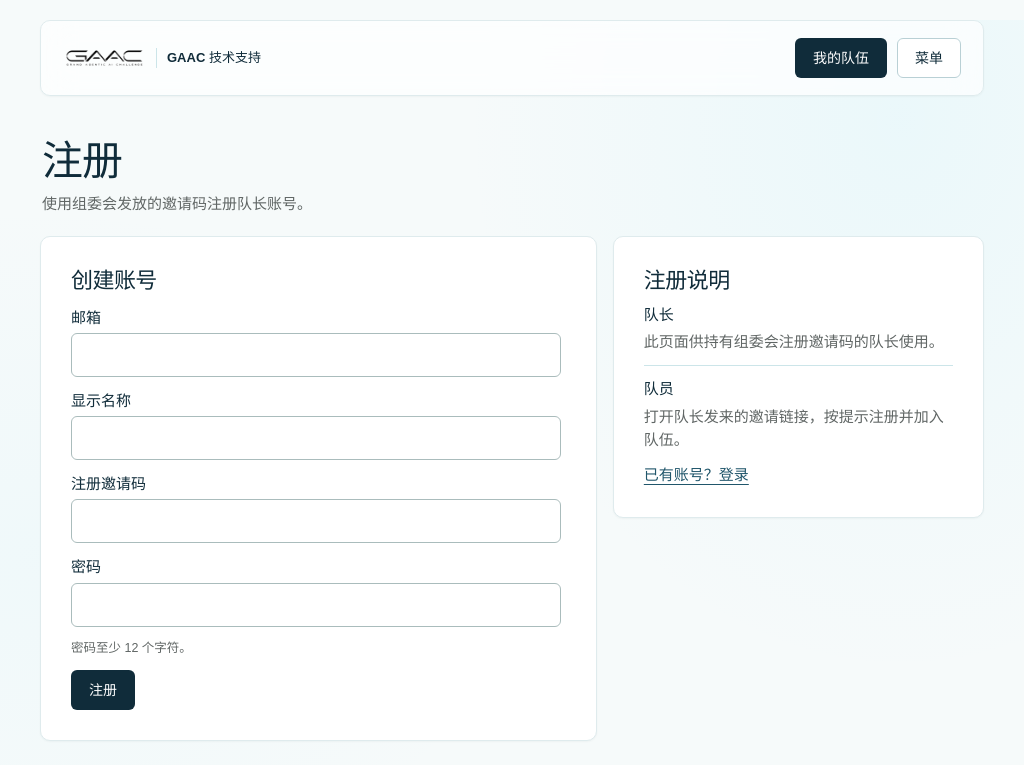
Scenario: redeems a registration code at sign-up and creates a team
Type "new-captain@example.test" into the field labelled "邮箱" at (316, 355), box [71, 333, 561, 377]
Type "方青" into the field labelled "显示名称" at (316, 438), box [71, 416, 561, 460]
Type "DEMO-CAPTAIN" into the field labelled "注册邀请码" at (316, 521), box [71, 499, 561, 543]
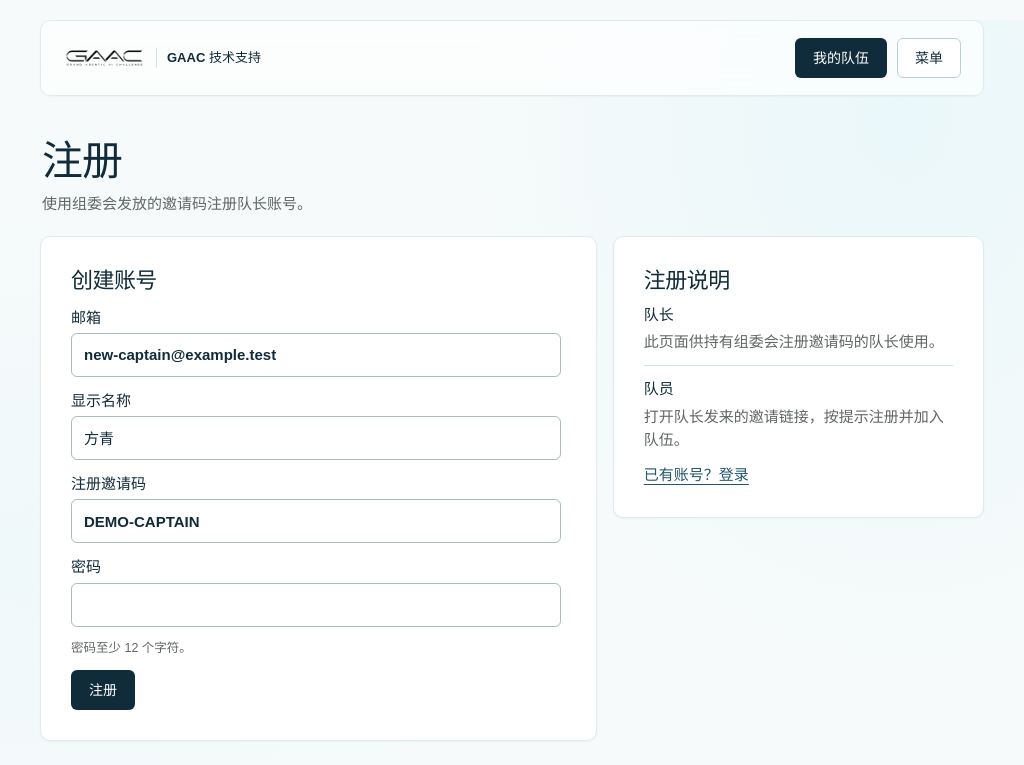
Type "demo-password-2026" into the password field labelled "密码" at (316, 605), box [71, 583, 561, 627]
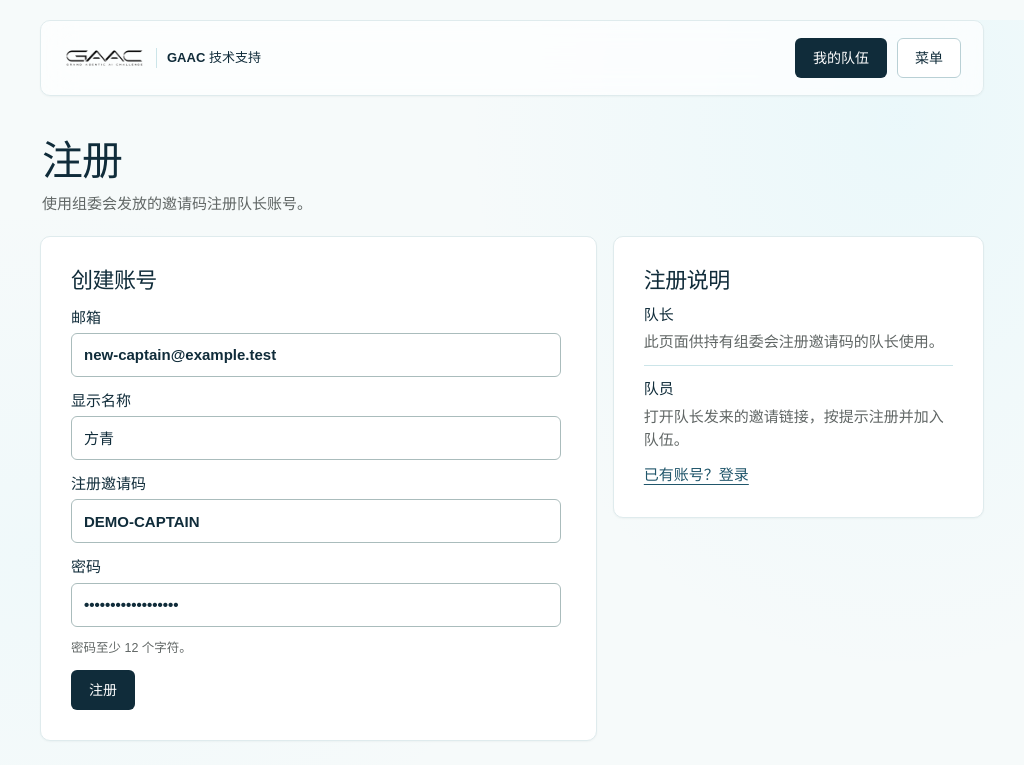
Click the button "注册" at (103, 690), box [71, 670, 135, 710]
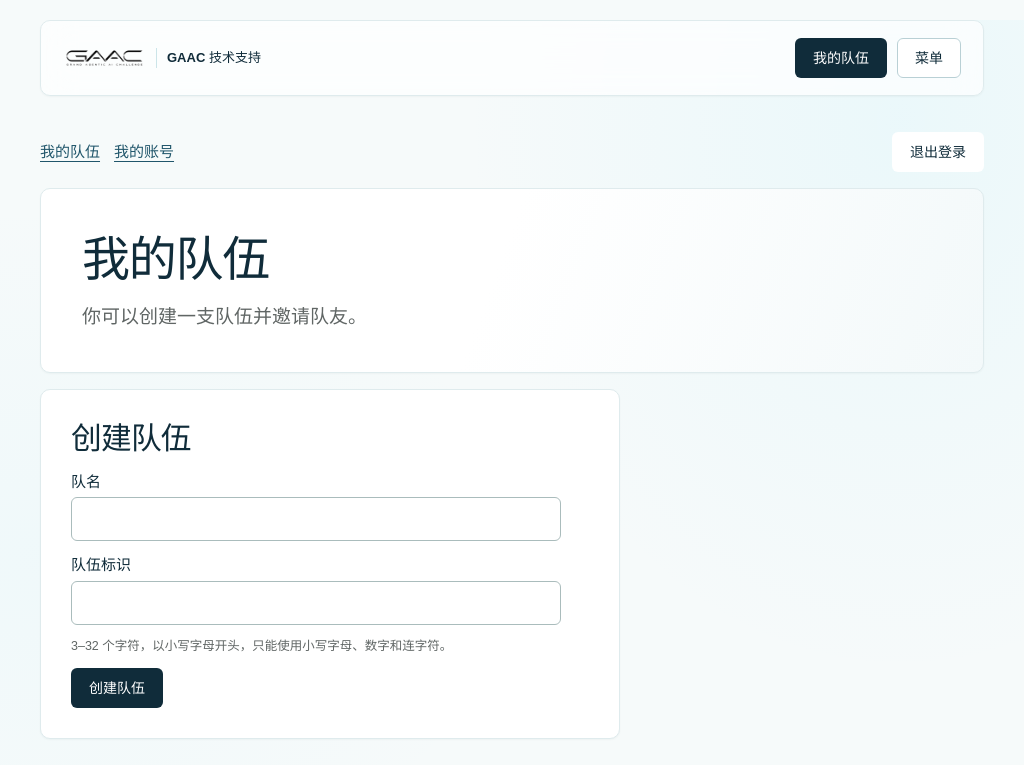
Type "青山实验室" into the field labelled "队名" at (316, 519), box [71, 497, 561, 541]
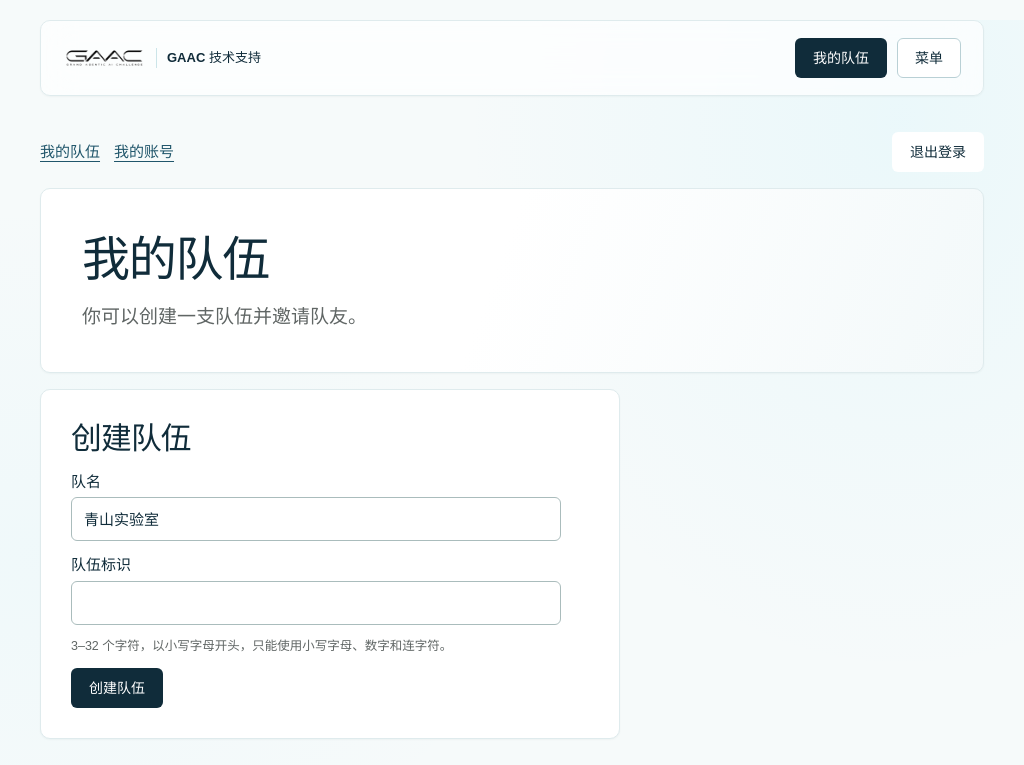
Type "green-hill" into the field labelled "队伍标识" at (316, 603), box [71, 581, 561, 625]
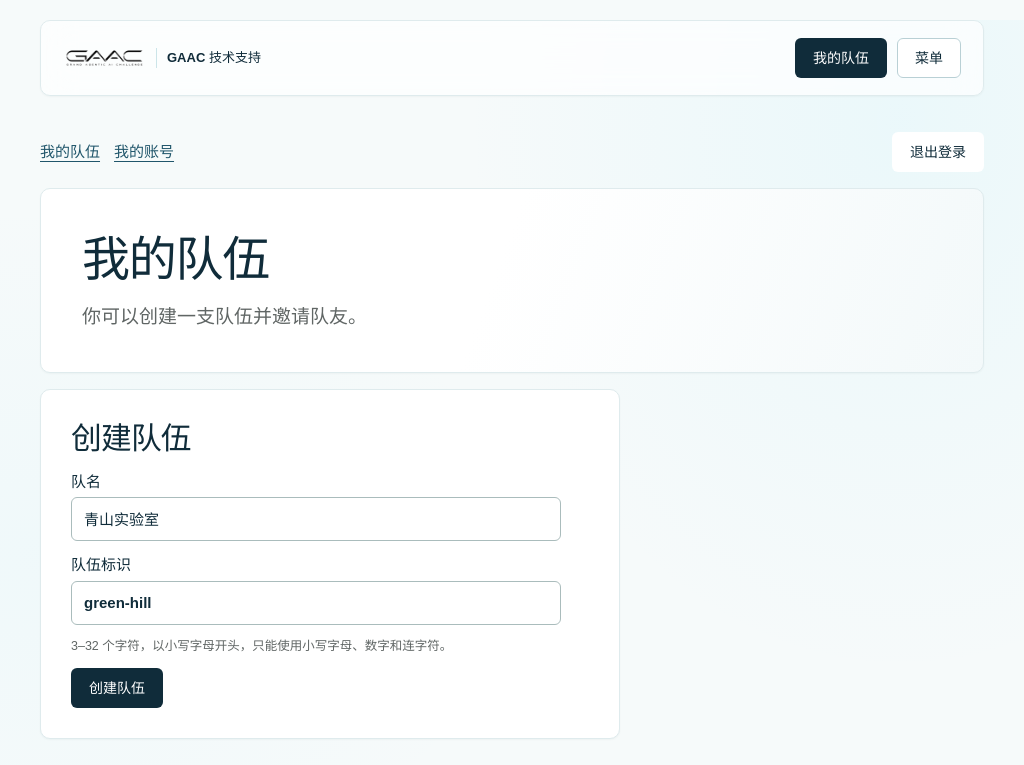
Click the button "创建队伍" at (117, 688), box [71, 668, 163, 708]
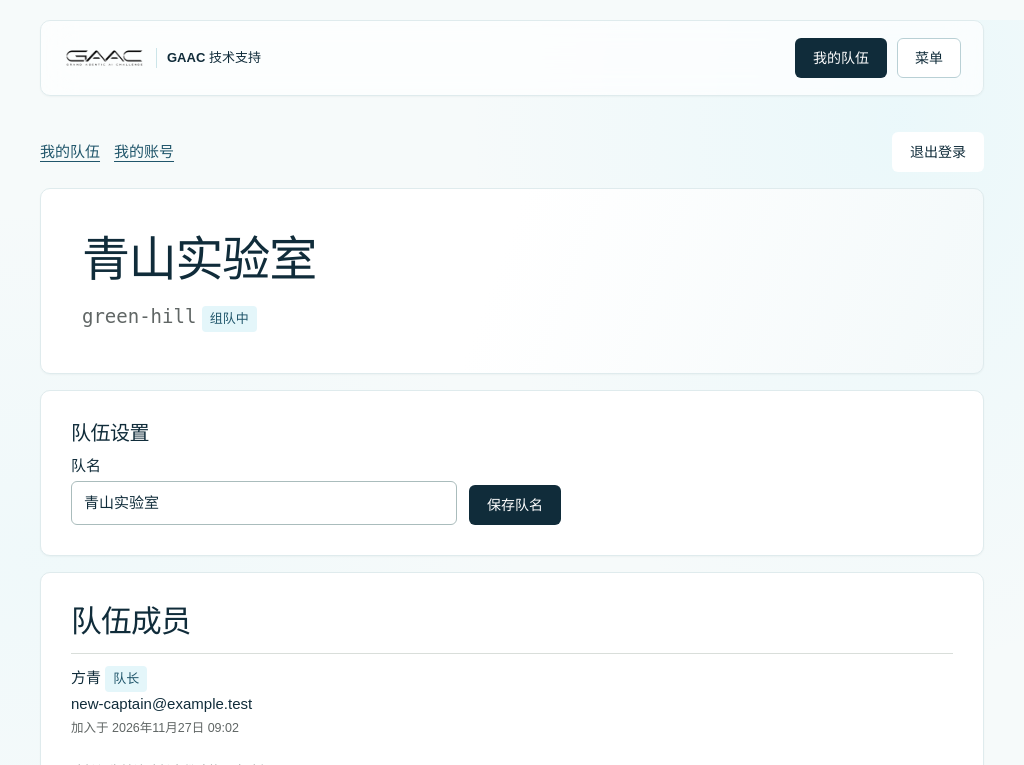
Expected: the heading "青山实验室" is shown, [82, 230, 316, 289]
Expected: the text "方青" is shown, [71, 669, 101, 686]
